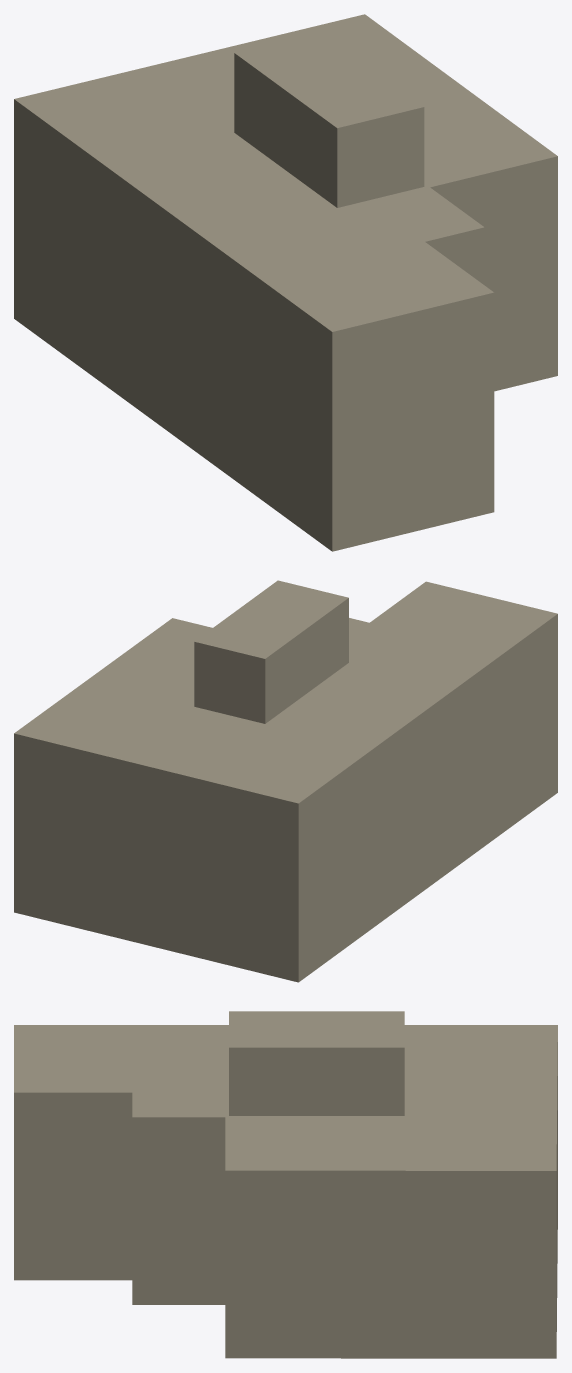
The model's file is tower_north_hall_far.glb.
The picture shows the model from 3 angles, top to bottom: view 1: azimuth 30°, elevation 25°; view 2: azimuth 150°, elevation 25°; view 3: azimuth 270°, elevation 25°; orthographic projection. The views are drawn at different scales.
Visible parts, largest first — view 1: TowerNorthHall_Far; view 2: TowerNorthHall_Far; view 3: TowerNorthHall_Far.
Boxes of the visible parts, <box> form: TowerNorthHall_Far: <box>14,14,557,551</box>; TowerNorthHall_Far: <box>14,580,557,982</box>; TowerNorthHall_Far: <box>14,1011,557,1358</box>.
Bounding box in the file's own units: 48.2 × 39.4 × 75.9.
